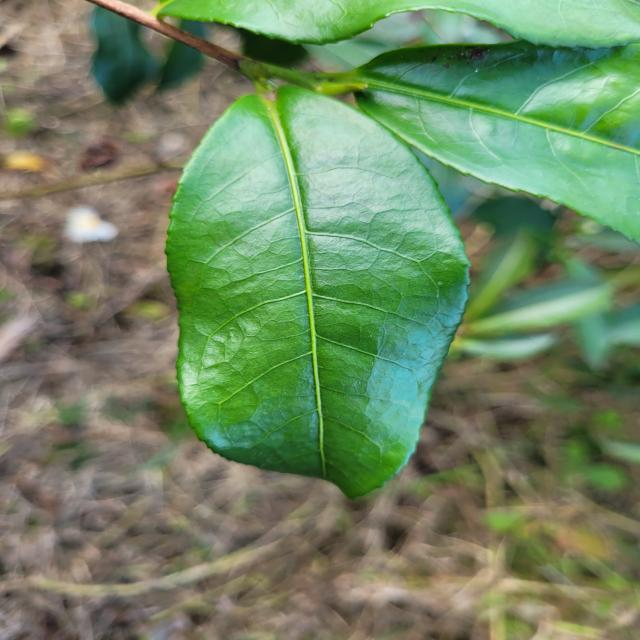Category D 7+ days, Not for Tea: (140, 57, 490, 535)
